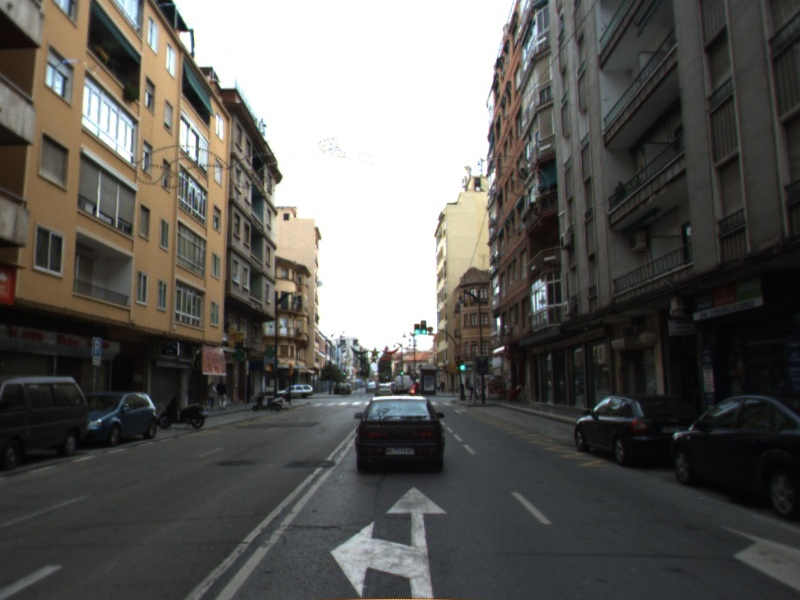RIGHT: (717, 523, 800, 591), (452, 407, 468, 416)
STRAIGHT_LEFT: (329, 485, 449, 600)
